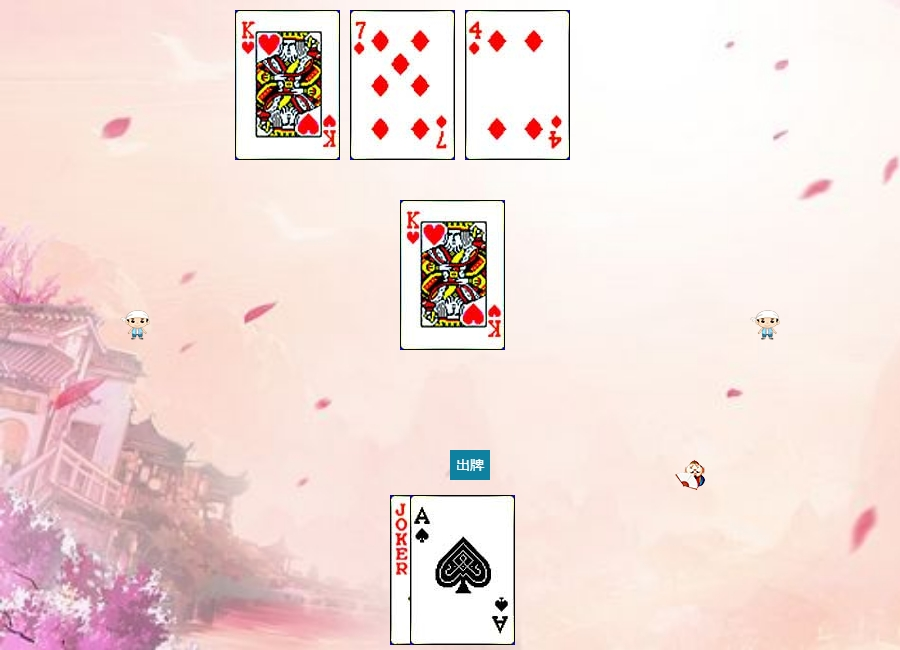13~3: (235, 10, 340, 160), (400, 200, 505, 350)
14~4: (410, 495, 515, 645)
18~4: (390, 495, 495, 645)
4~1: (465, 10, 570, 160)
7~1: (350, 10, 455, 160)
